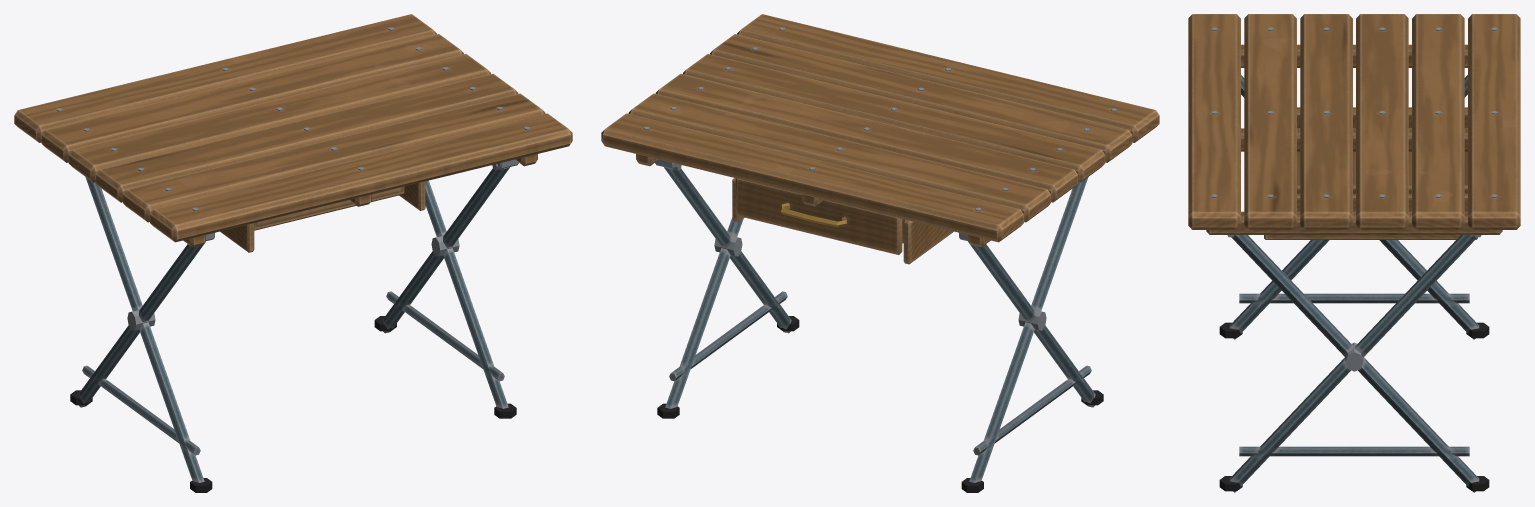
File: mesa_mercado.fbx
3 renders of one model, left to right at view 1: azimuth 30°, elevation 25°; view 2: azimuth 150°, elevation 25°; view 3: azimuth 270°, elevation 25°, orthographic. The views are drawn at different scales.
Visible parts, largest first — view 1: mesa_mercado, mesa_mercado_cajon; view 2: mesa_mercado, mesa_mercado_cajon; view 3: mesa_mercado, mesa_mercado_cajon.
Part boxes in pixels (x1,y1,x2,y2): mesa_mercado: (14,14,572,492); mesa_mercado_cajon: (254,186,404,230); mesa_mercado: (601,14,1159,492); mesa_mercado_cajon: (735,178,905,254); mesa_mercado: (1188,14,1520,492); mesa_mercado_cajon: (1297,111,1467,193).
Size of the model in its own units: 2.9 by 2.03 by 2.02.
Materials: 1 (1 with a texture image).
